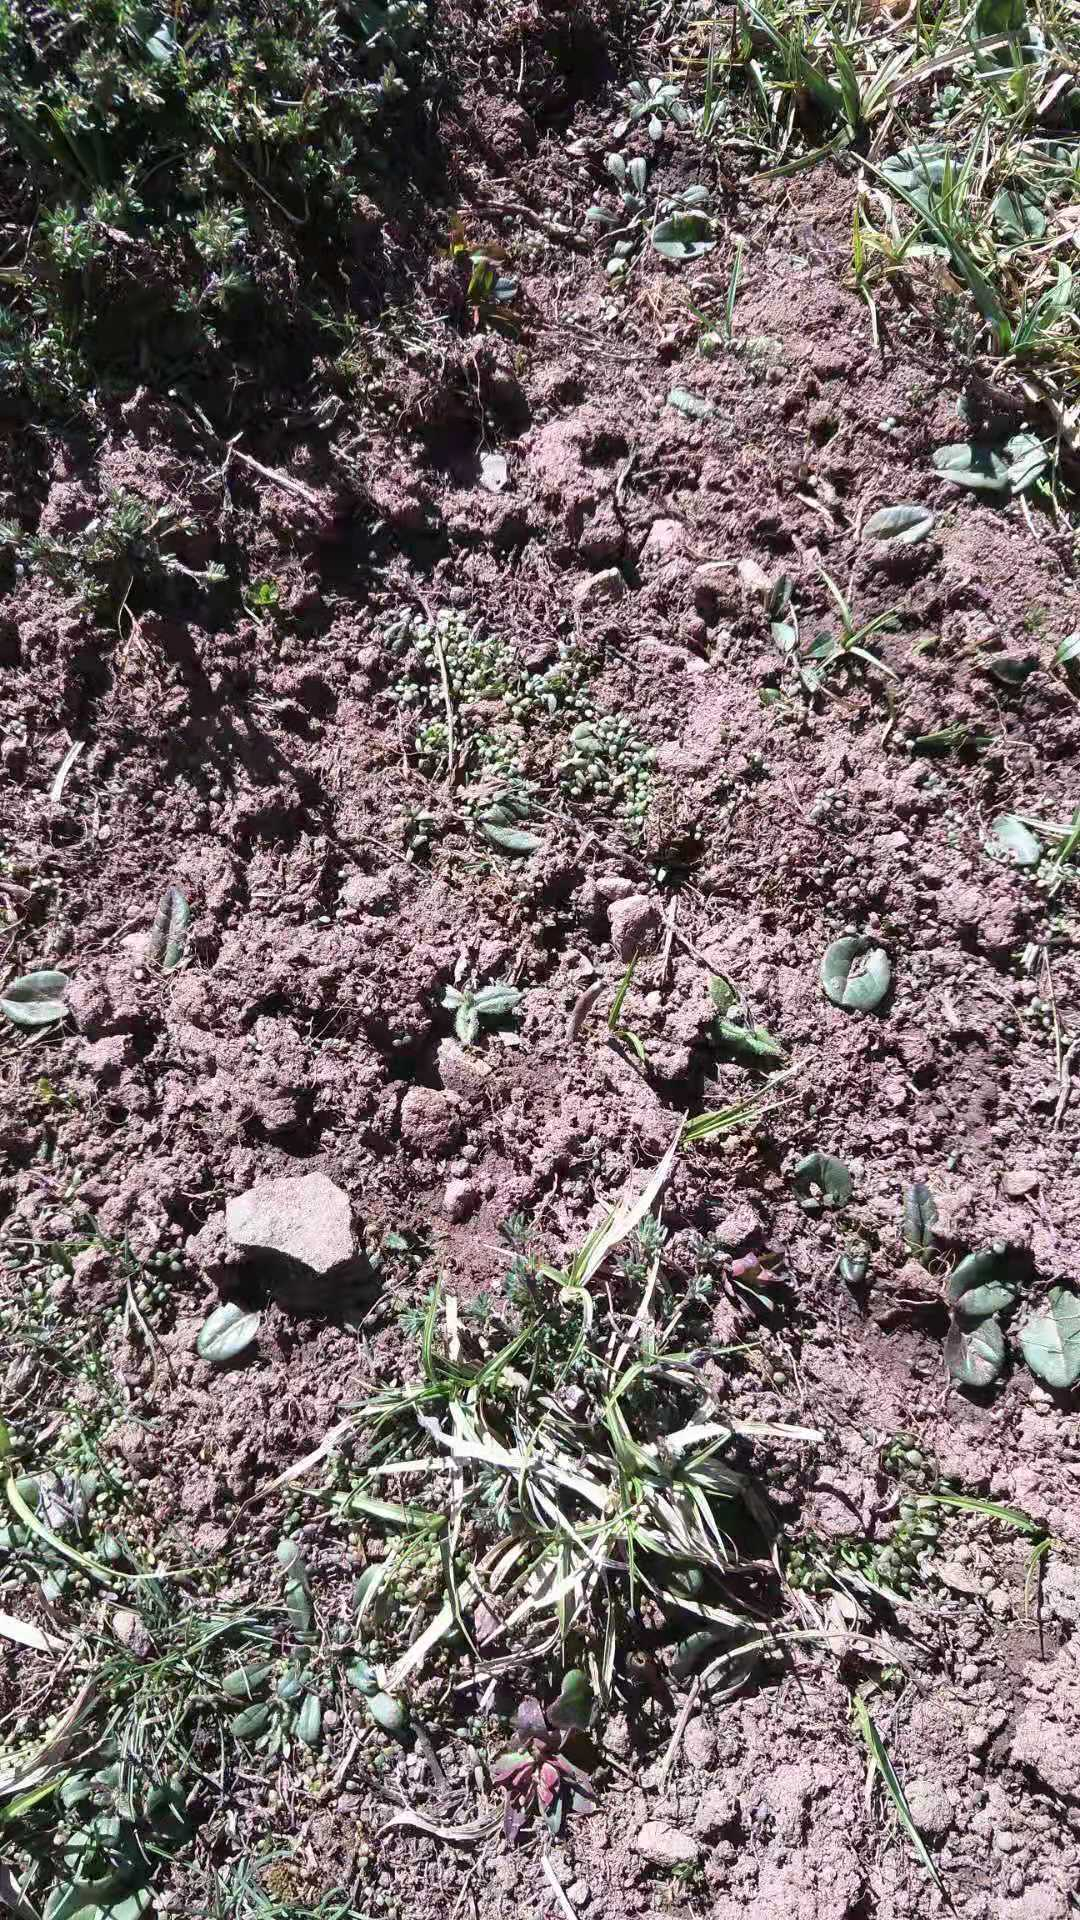Chongcao: (567, 980, 611, 1044)
